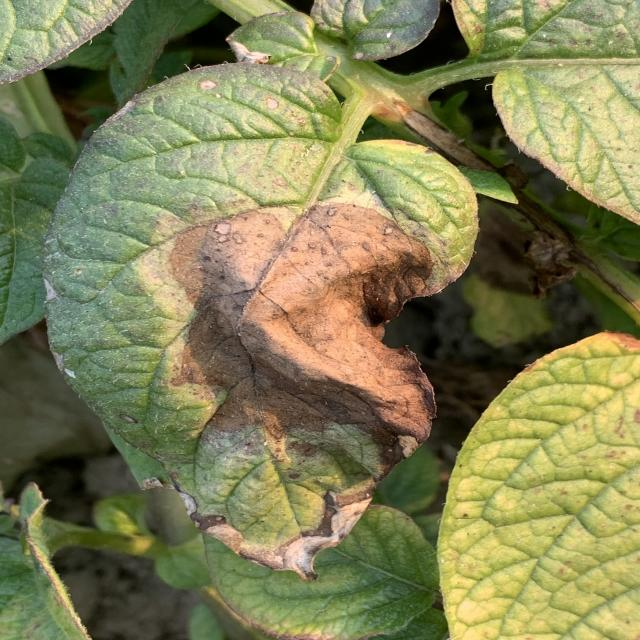lateblight: (170, 204, 435, 440), (195, 491, 370, 578)
